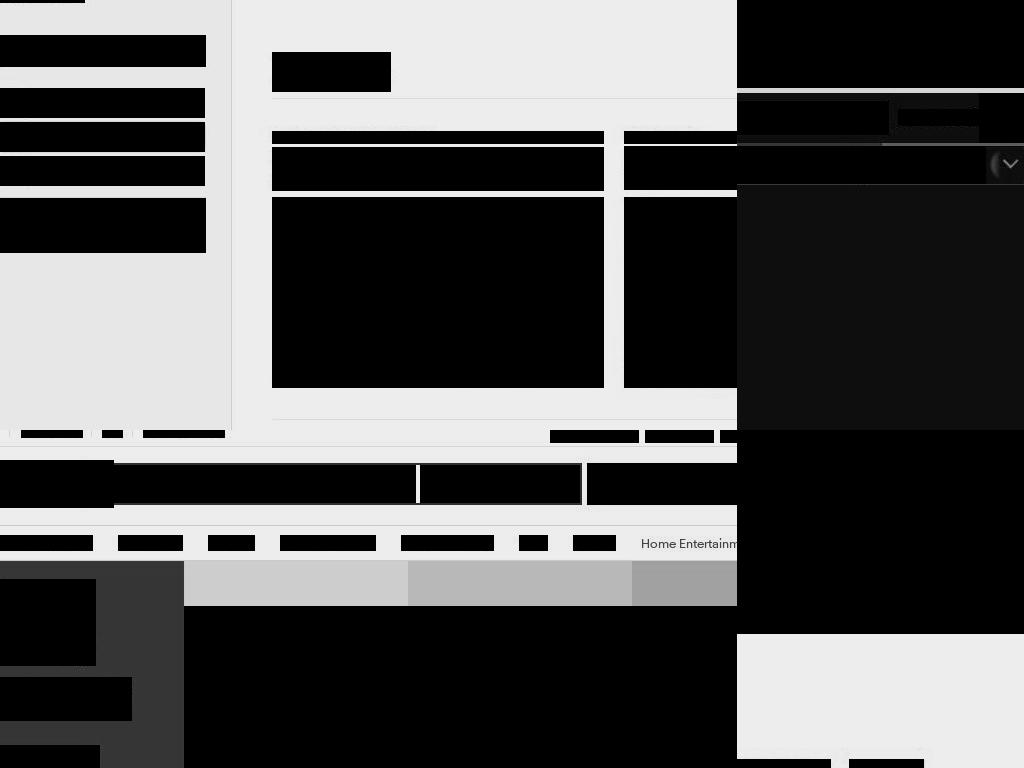button: (0, 198, 206, 253), (0, 88, 205, 118), (0, 122, 205, 152), (0, 156, 205, 186), (834, 146, 986, 184), (737, 594, 930, 619), (737, 146, 835, 184), (0, 460, 76, 503), (0, 745, 100, 768), (979, 93, 1024, 143), (985, 146, 1024, 184), (550, 430, 639, 443), (645, 430, 714, 443)
field: (86, 465, 416, 503), (0, 35, 206, 67), (587, 463, 737, 505), (420, 465, 580, 503), (737, 101, 889, 135)
heading: (272, 147, 604, 191), (0, 579, 96, 666), (0, 460, 114, 508), (624, 146, 737, 190), (272, 52, 391, 92)
image: (272, 197, 604, 388), (184, 606, 408, 768), (408, 606, 632, 768), (737, 0, 1024, 88), (624, 197, 737, 388), (632, 606, 737, 768), (978, 146, 1024, 184), (839, 148, 874, 182), (990, 148, 1024, 182), (1, 213, 25, 238), (1, 91, 25, 115), (1, 125, 25, 149), (1, 159, 25, 183), (132, 220, 142, 231), (52, 481, 66, 488), (619, 430, 628, 434)
link: (280, 535, 376, 551), (641, 535, 737, 551), (0, 535, 93, 551), (401, 535, 494, 551), (118, 535, 183, 551), (737, 759, 831, 768), (208, 535, 255, 551), (898, 109, 942, 126), (573, 535, 616, 551), (143, 430, 225, 438), (954, 109, 984, 126), (21, 430, 83, 438), (519, 535, 548, 551), (814, 158, 830, 174), (102, 430, 123, 438)
text: (737, 430, 1024, 634), (737, 430, 920, 554), (0, 677, 132, 721), (272, 131, 604, 144), (33, 92, 202, 114), (33, 126, 202, 148), (33, 160, 202, 182), (31, 216, 128, 235), (0, 468, 49, 498), (624, 131, 737, 144), (913, 146, 981, 165), (750, 158, 816, 172), (0, 755, 68, 768), (849, 759, 924, 768), (853, 107, 881, 129), (992, 104, 1016, 128), (561, 430, 618, 438), (941, 109, 955, 126), (879, 158, 893, 172), (737, 158, 745, 172), (901, 158, 909, 172)
